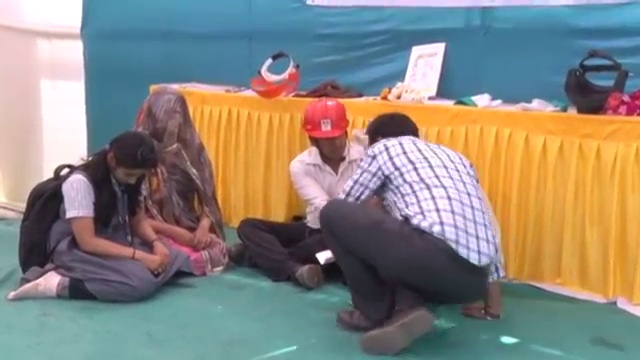helmet: (300, 101, 353, 141)
helmet_off: (98, 133, 158, 190), (141, 91, 193, 151), (361, 114, 420, 147)
helmet_on: (300, 103, 354, 169)
person: (319, 111, 508, 350), (10, 131, 185, 306), (236, 92, 369, 277), (129, 80, 224, 274)
